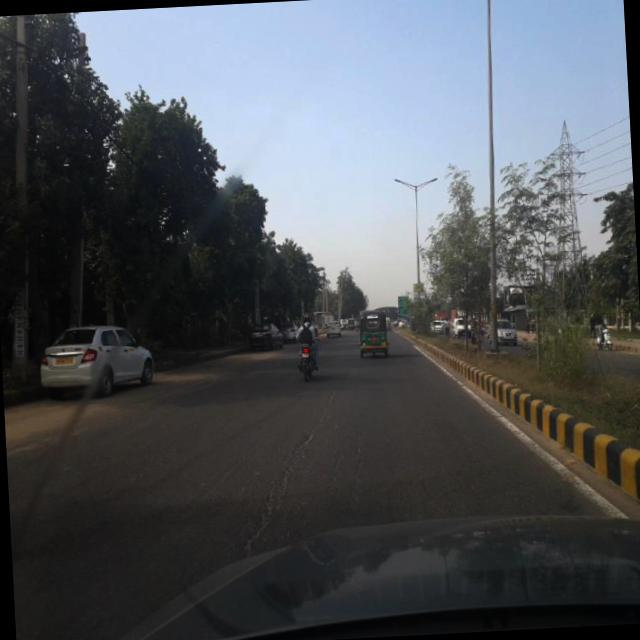pothole: (231, 384, 334, 552), (336, 414, 372, 521)
